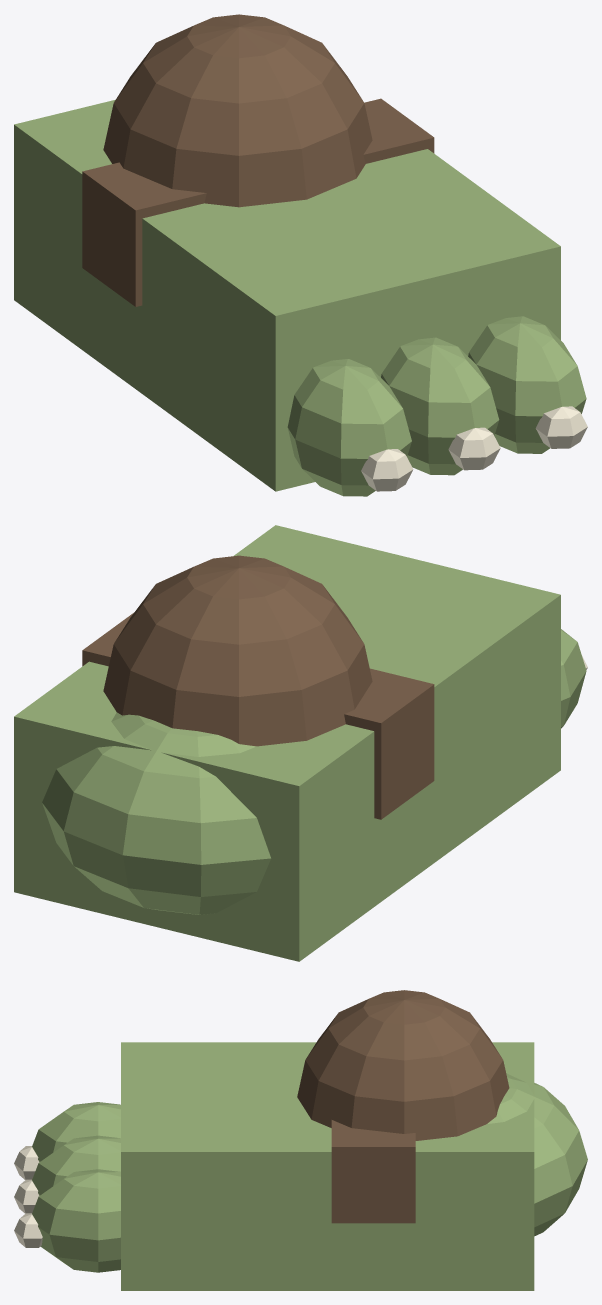
The model's file is SM_Orc_Foot_L.fbx.
The picture shows the model from 3 angles, top to bottom: view 1: azimuth 30°, elevation 25°; view 2: azimuth 150°, elevation 25°; view 3: azimuth 270°, elevation 25°; orthographic projection. The views are drawn at different scales.
Parts seen in each view (by area): view 1: SM_Orc_Foot_L; view 2: SM_Orc_Foot_L; view 3: SM_Orc_Foot_L.
Boxes of the visible parts, <box> form: SM_Orc_Foot_L: <box>14,14,587,496</box>; SM_Orc_Foot_L: <box>14,525,587,961</box>; SM_Orc_Foot_L: <box>14,990,587,1290</box>.
Bounding box in the file's own units: 0.178 × 0.17 × 0.375.
